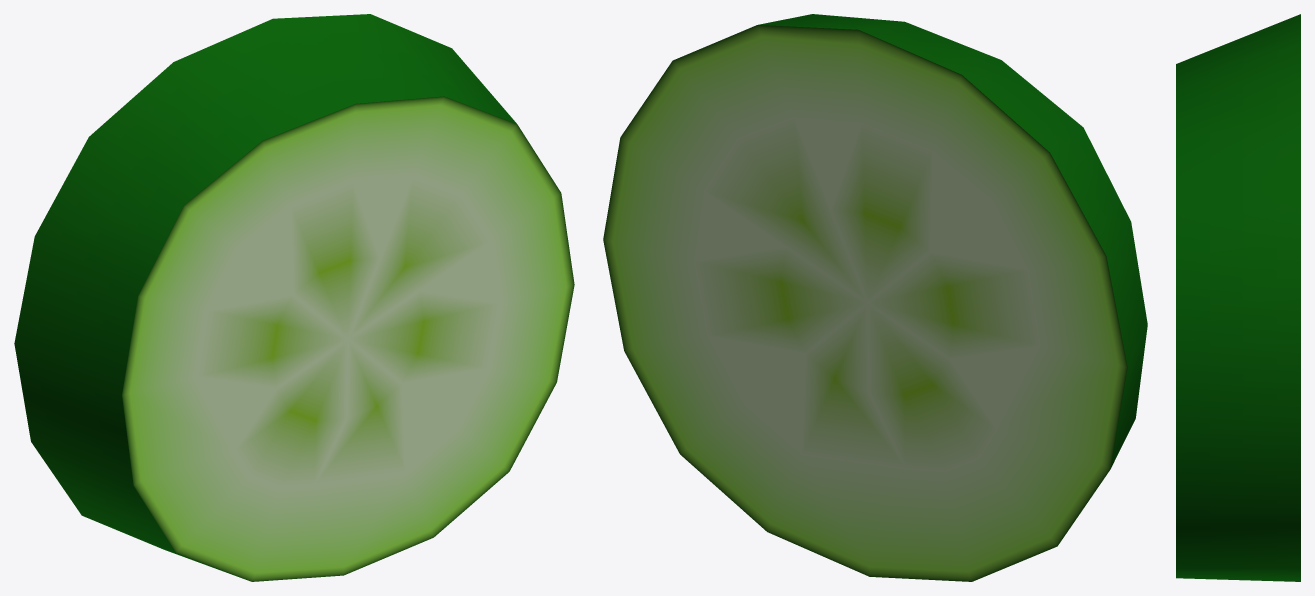
Rendered from Cucumber_Slice_02.fbx.
3 renders of one model, left to right at view 1: azimuth 30°, elevation 25°; view 2: azimuth 150°, elevation 25°; view 3: azimuth 270°, elevation 25°, orthographic. The views are drawn at different scales.
Parts seen in each view (by area): view 1: Cucumber_Slice_02; view 2: Cucumber_Slice_02; view 3: Cucumber_Slice_02.
Part boxes in pixels (left/top/right/bottom): Cucumber_Slice_02: left=14, top=14, right=574, bottom=581; Cucumber_Slice_02: left=603, top=14, right=1147, bottom=581; Cucumber_Slice_02: left=1176, top=14, right=1300, bottom=581.
Size of the model in its own units: 3.98 by 3.95 by 0.8668.
